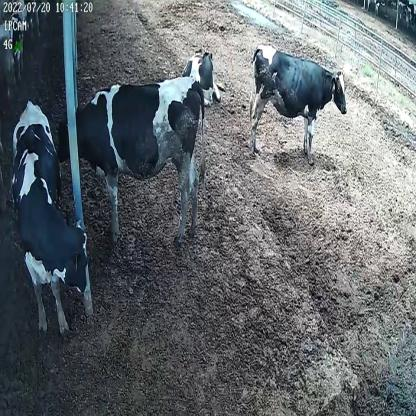cow: (57, 76, 207, 250), (8, 100, 90, 334), (246, 43, 349, 161), (182, 46, 223, 109)
